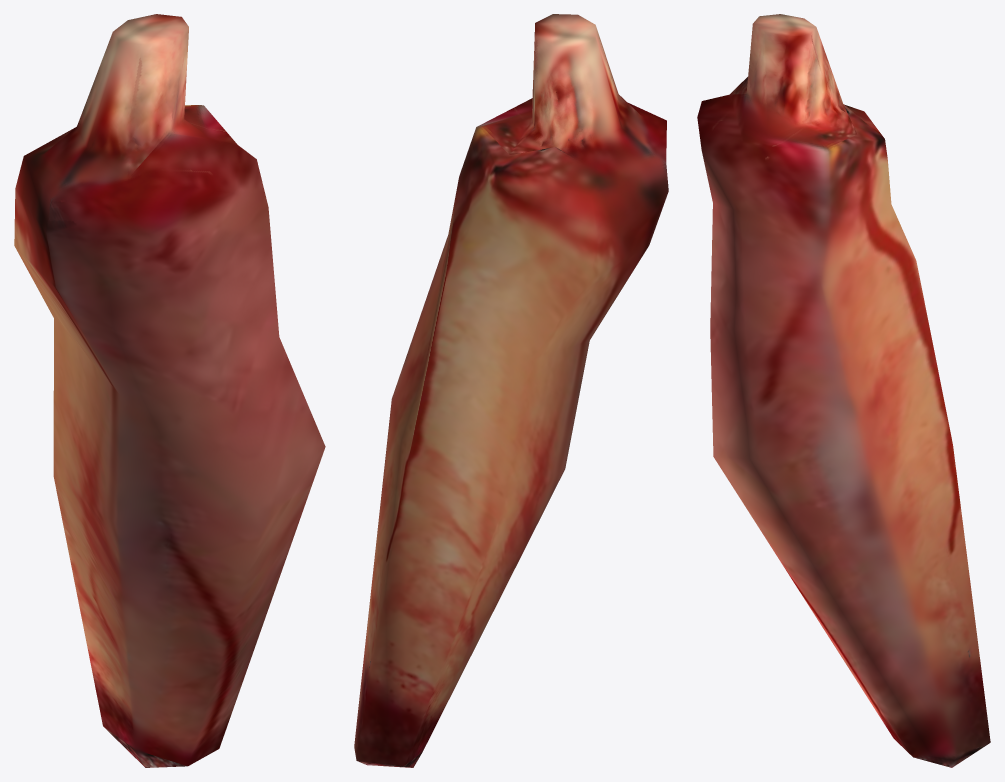
The model's file is flesh_2.glb.
3 renders of one model, left to right at view 1: azimuth 30°, elevation 25°; view 2: azimuth 150°, elevation 25°; view 3: azimuth 270°, elevation 25°, orthographic. The views are drawn at different scales.
Visible parts, largest first — view 1: trozo 2; view 2: trozo 2; view 3: trozo 2.
Boxes of the visible parts, x1=… form: trozo 2: x1=14, y1=14, x2=325, y2=767; trozo 2: x1=354, y1=14, x2=668, y2=767; trozo 2: x1=697, y1=14, x2=990, y2=767.
Bounding box in the file's own units: 0.3102 × 0.9047 × 0.3476.
1 material, 1 textured.
